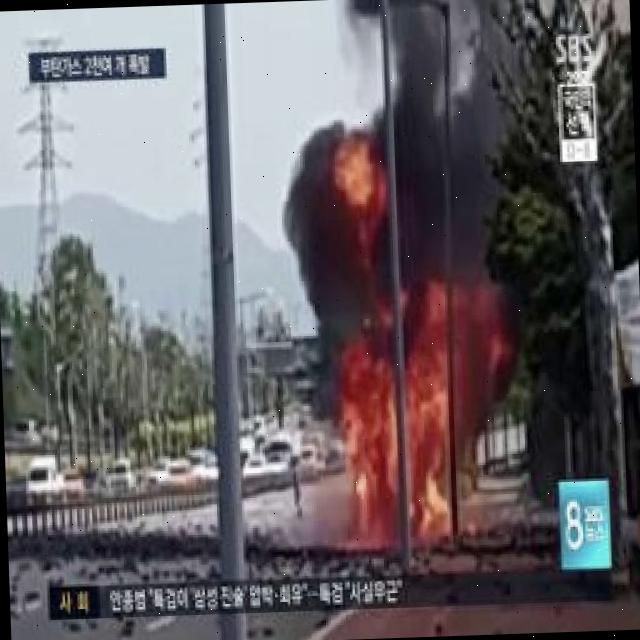fire: (354, 372, 454, 540)
